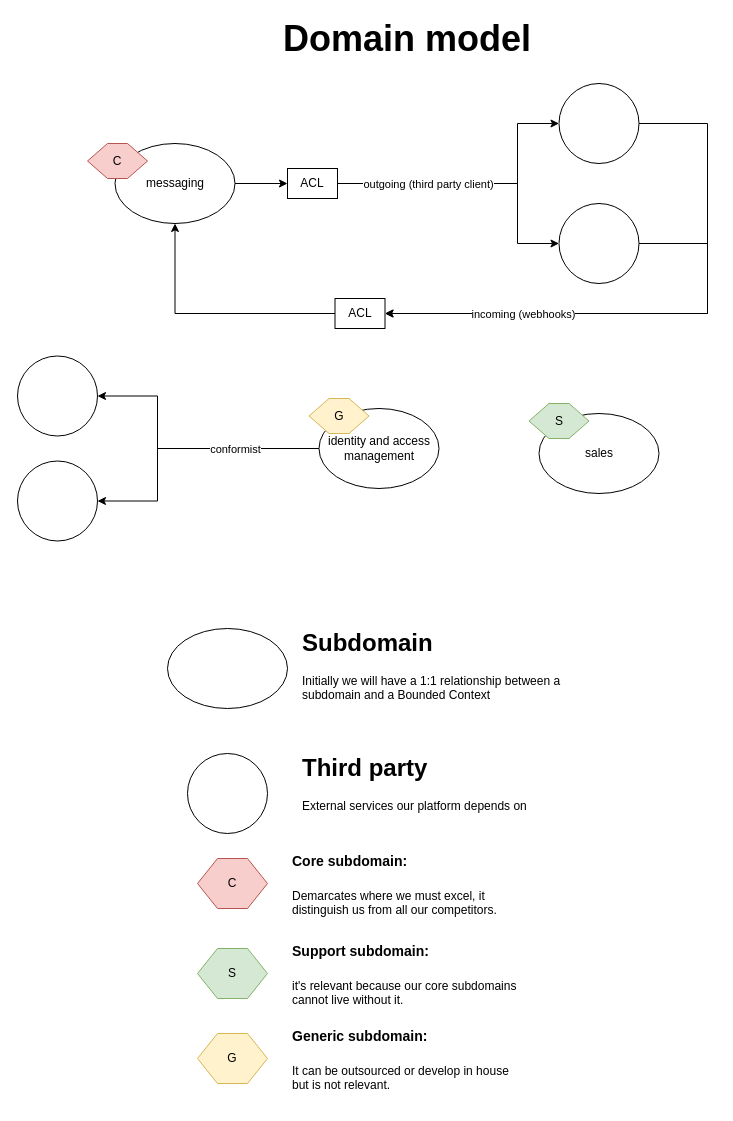
This 733x1121 diagram has some shape labels left out. Each missing label, with the centre of its shape:
"Auth0" goes at (57,395).
"Instagram" goes at (598,243).
"SMS" goes at (598,123).
"Twilio Auth" goes at (57,500).
